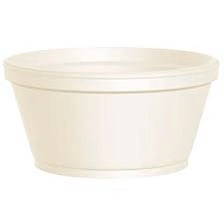paper_cup: (0, 40, 224, 184)
